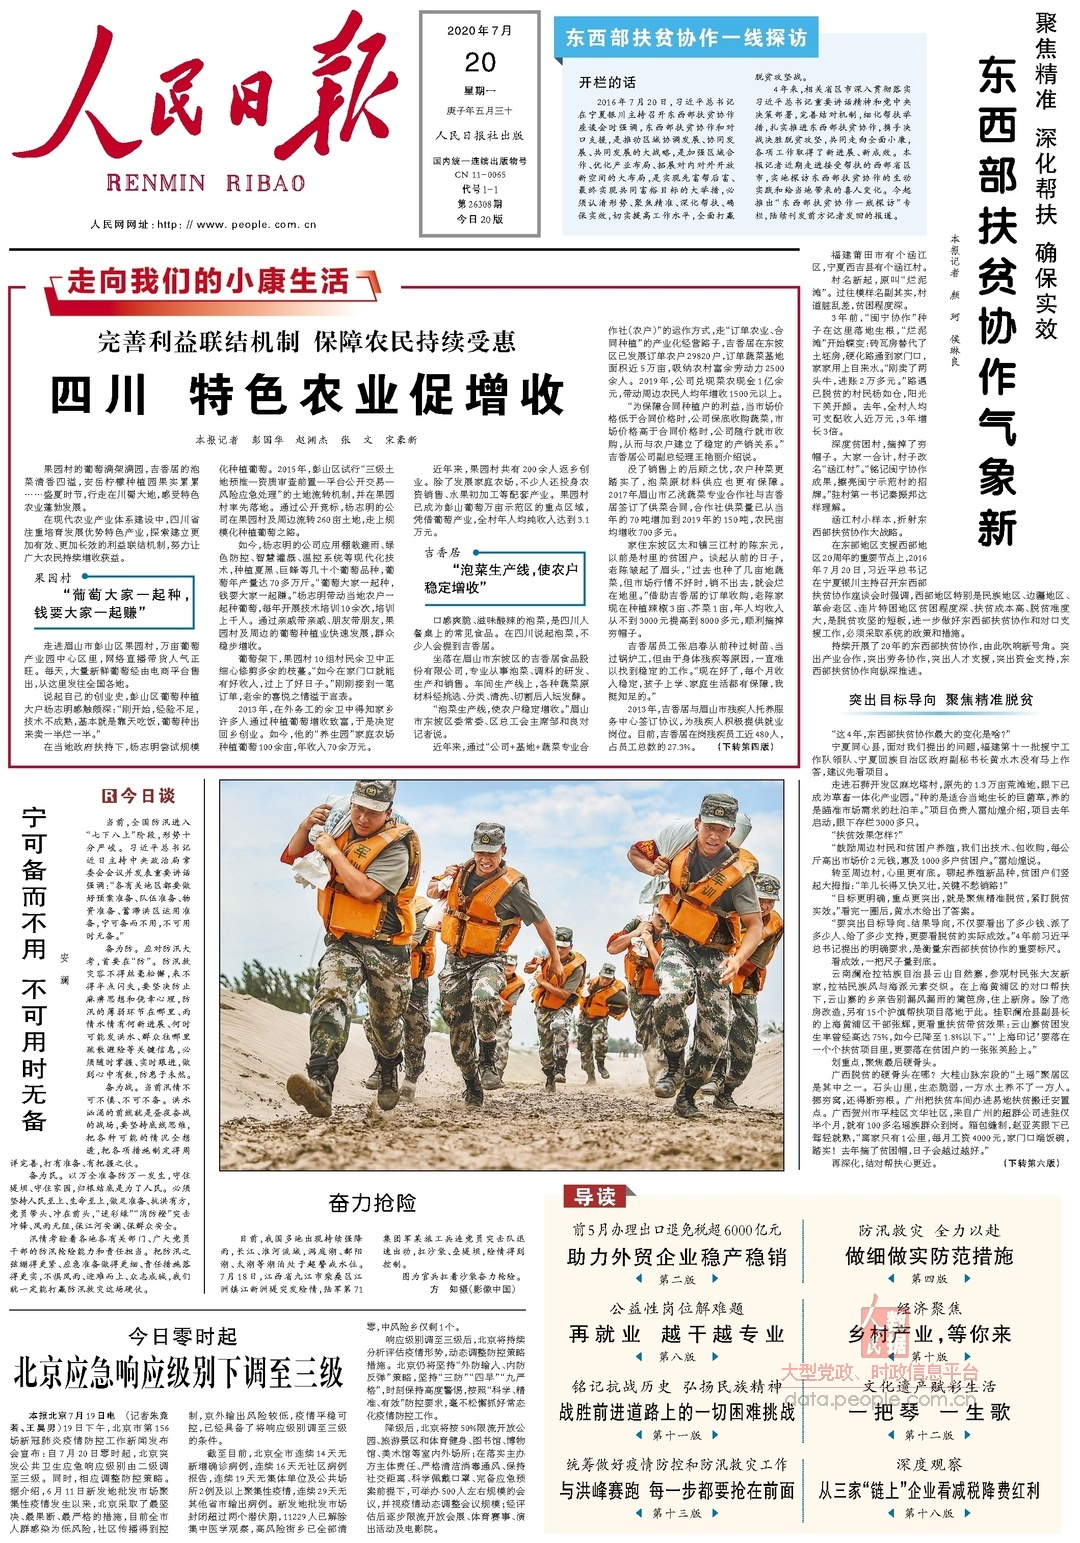pic: (213, 775, 790, 1176)
